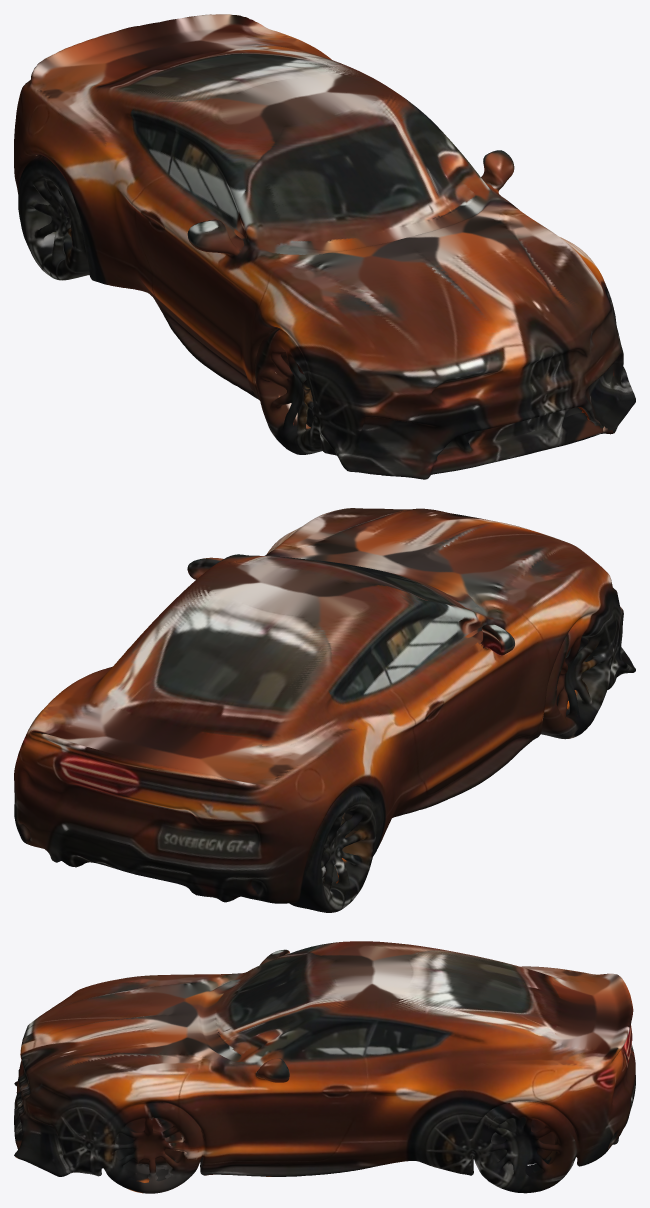
Rendered from sov_painted.glb.
3 views of the same model, one above another, from view 1: azimuth 30°, elevation 25°; view 2: azimuth 150°, elevation 25°; view 3: azimuth 270°, elevation 25° (orthographic). The views are drawn at different scales.
Parts seen in each view (by area): view 1: geometry_0; view 2: geometry_0; view 3: geometry_0.
Boxes of the visible parts, left/top/right/bottom form: geometry_0: left=14, top=14, right=635, bottom=479; geometry_0: left=14, top=508, right=635, bottom=912; geometry_0: left=14, top=941, right=635, bottom=1193.
Bounding box in the file's own units: 2.24 × 1.43 × 4.78.
Materials: 1 (1 with a texture image).
